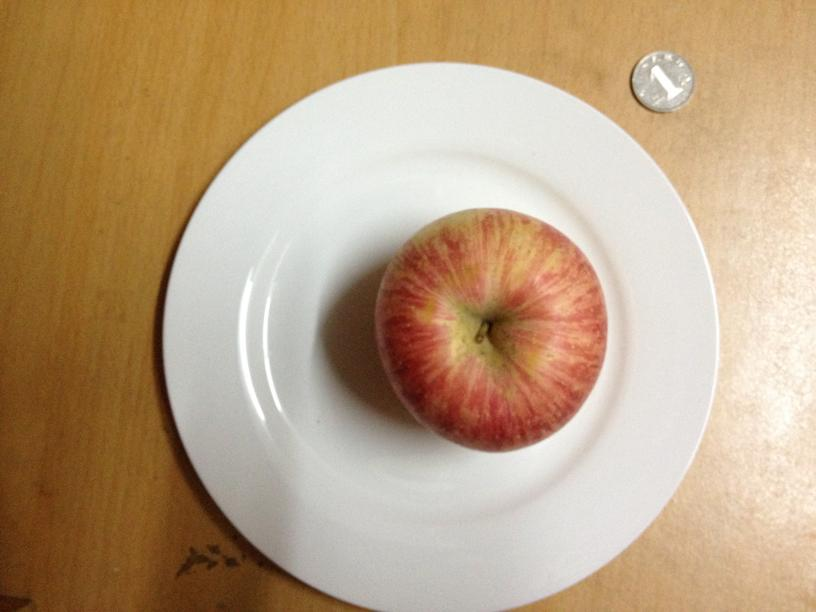apple: (379, 205, 606, 455)
coin: (629, 52, 696, 112)
